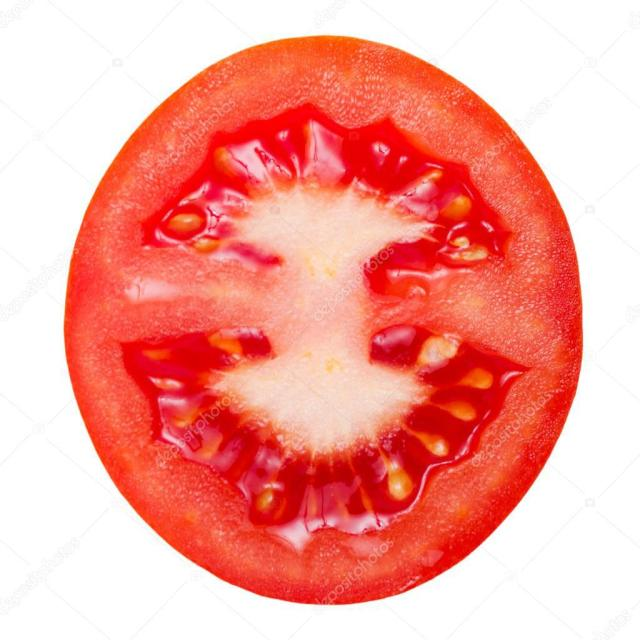Tomato: (61, 32, 592, 609)
